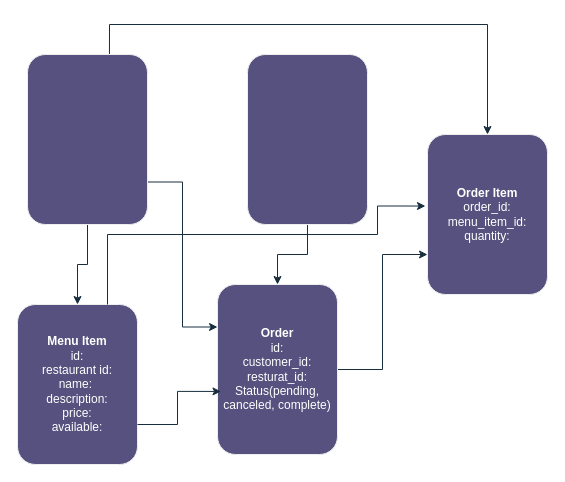
Image size: 565x482. Some labels were removed from this diagram. Each missing label, with the centre of its shape:
"Customer id: customer_id: resturant_id: Phone:" goes at (307,139).
"Resturant id: Name: Address: Phone:" goes at (87,139).
